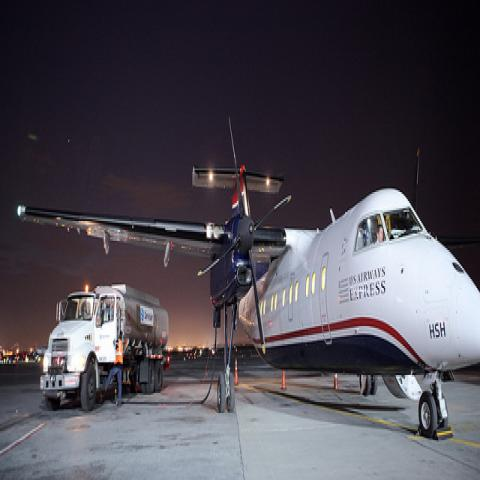truck: (40, 284, 170, 416)
